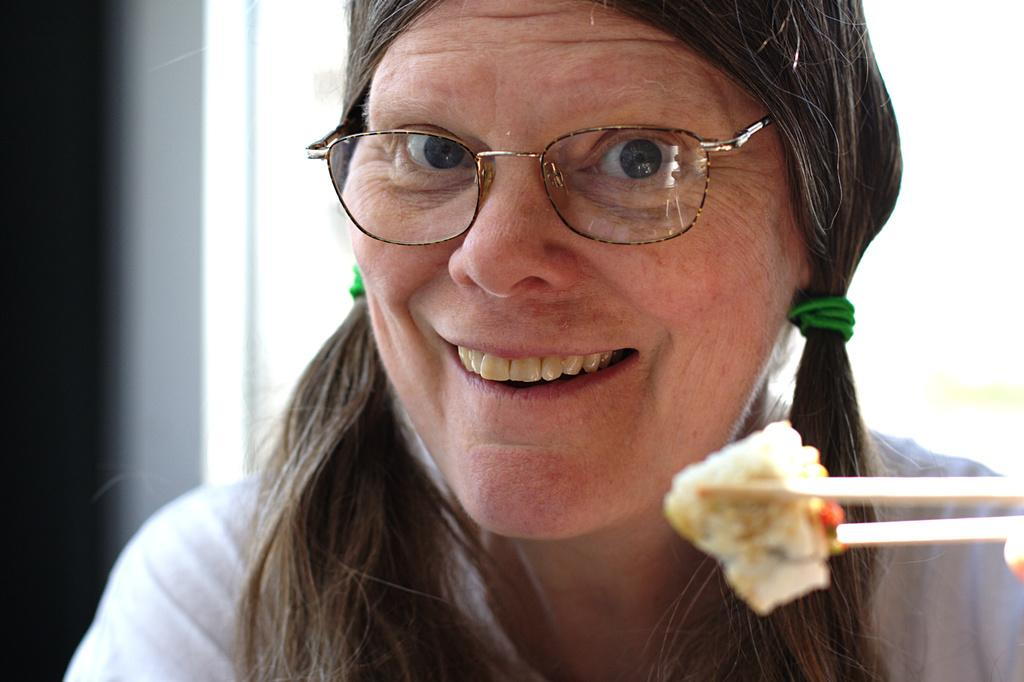Sem Máscara: (338, 0, 795, 535)
